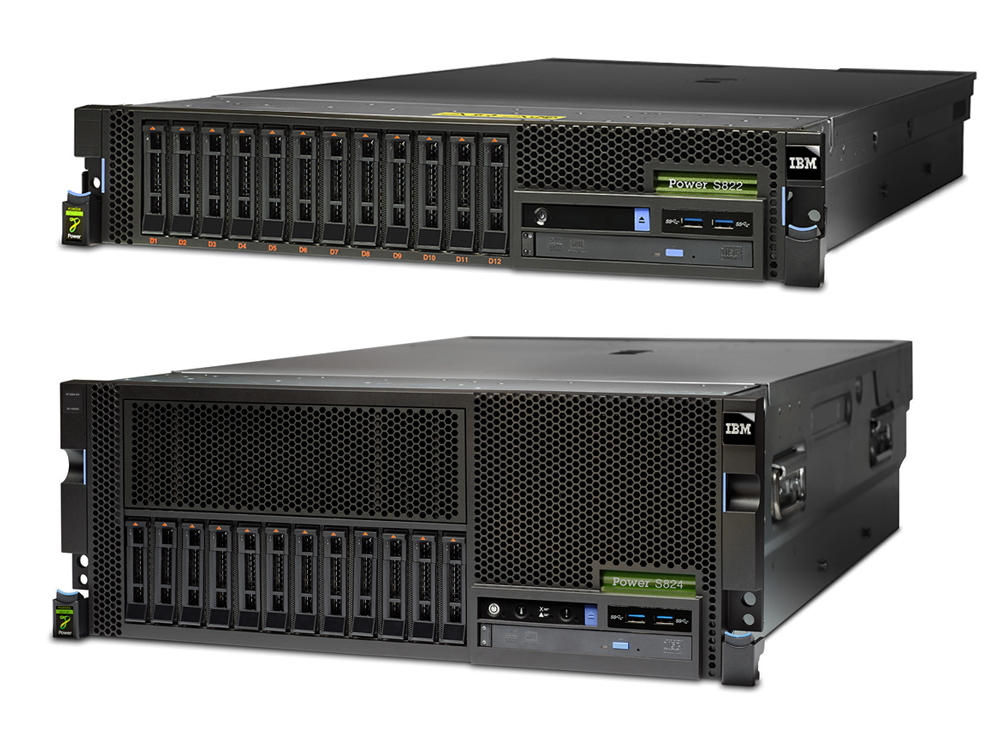ibm-server: (44, 322, 942, 701), (49, 41, 989, 304)
